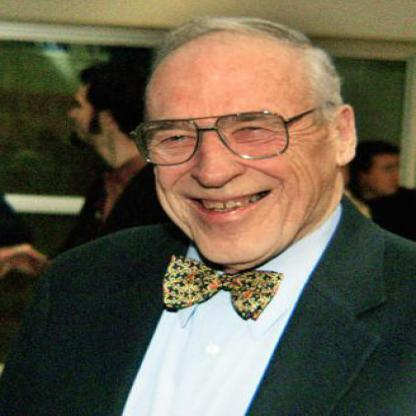face: (136, 25, 337, 270), (364, 147, 409, 196)
